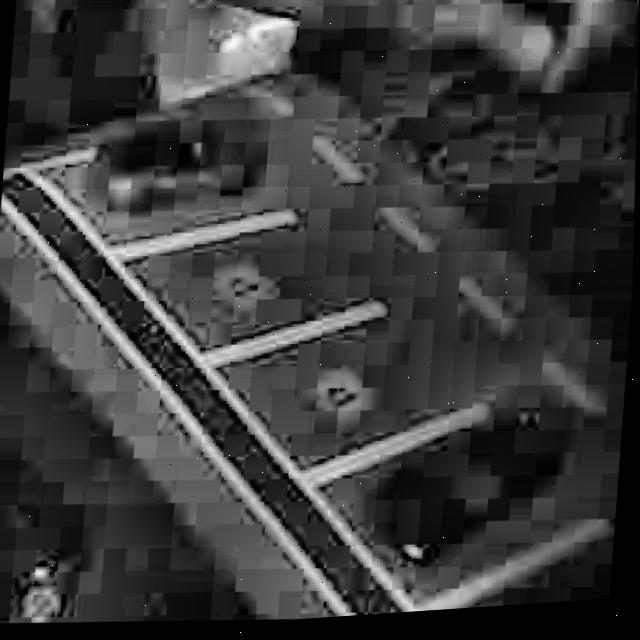car: (345, 400, 576, 589), (72, 100, 274, 241)
